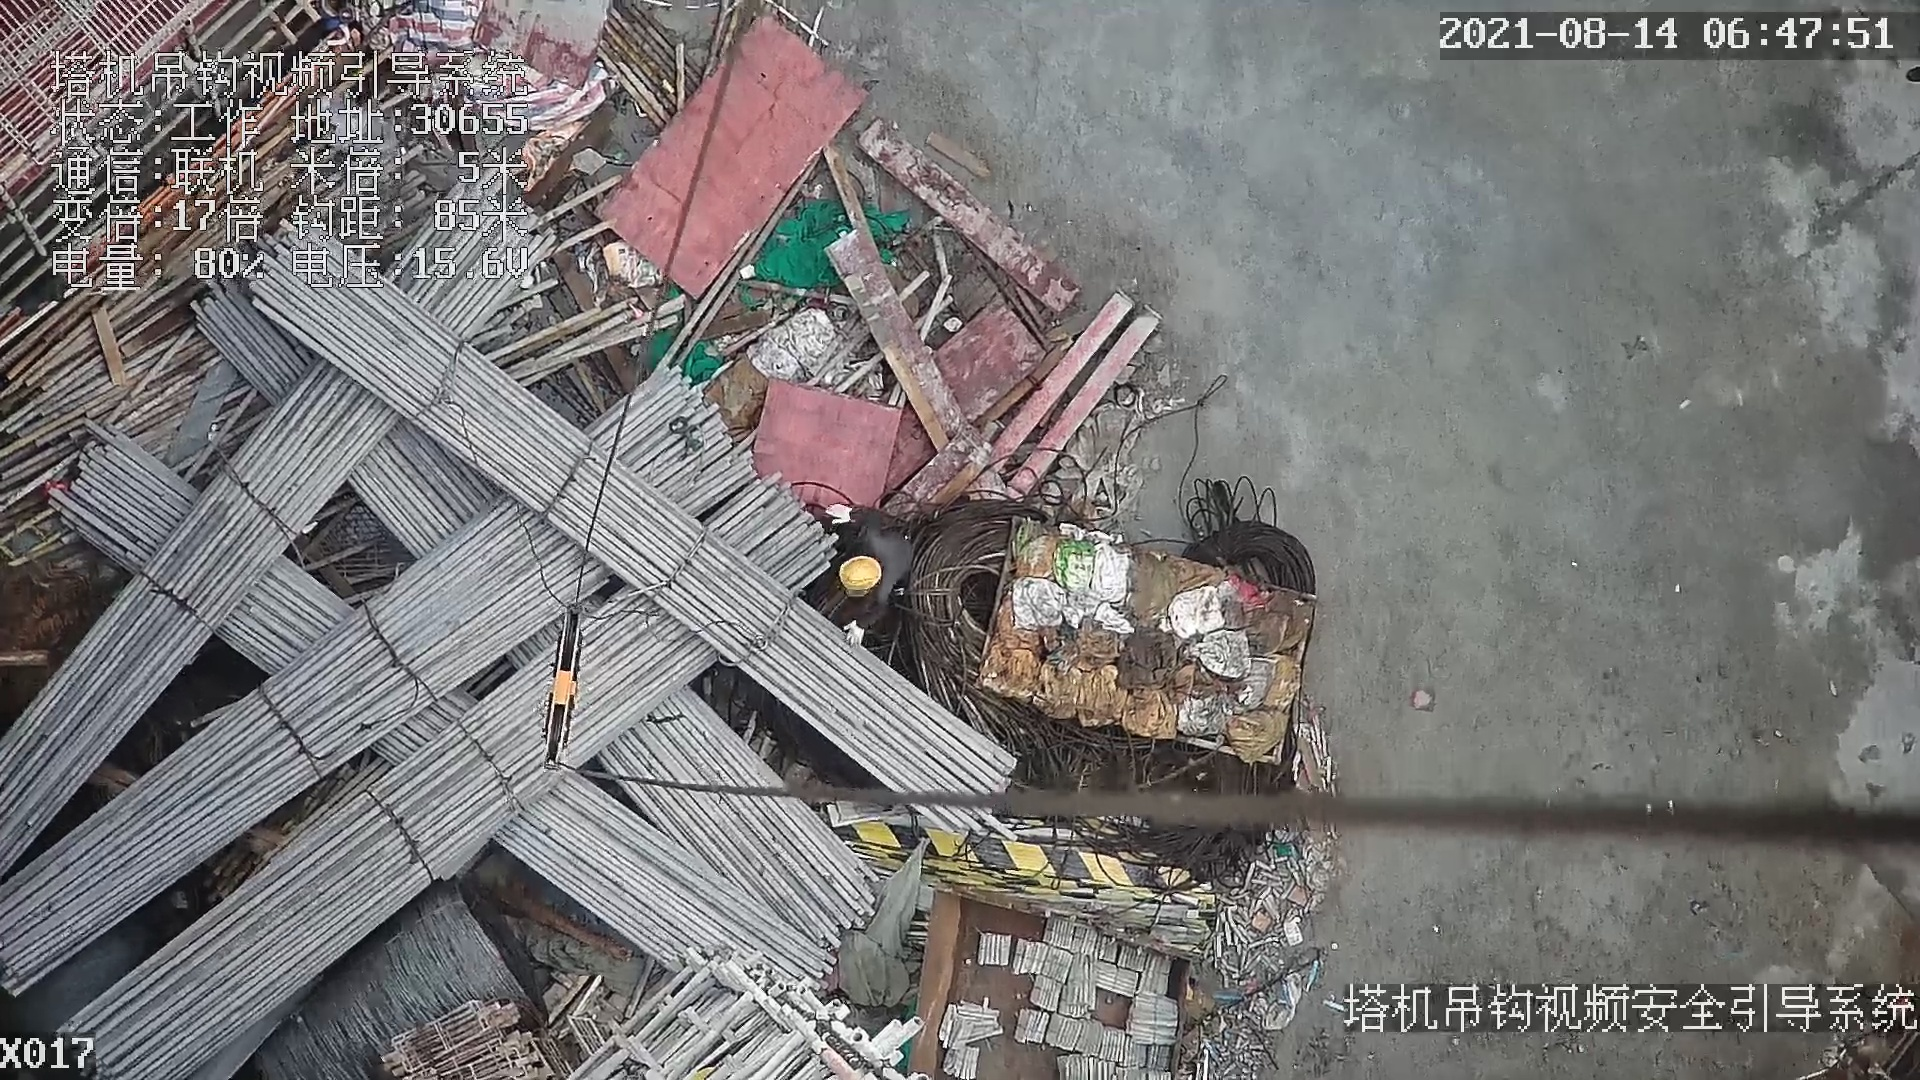board: (592, 13, 869, 293)
helmet: (833, 550, 886, 597)
hook: (544, 600, 596, 787)
person: (814, 497, 914, 649)
